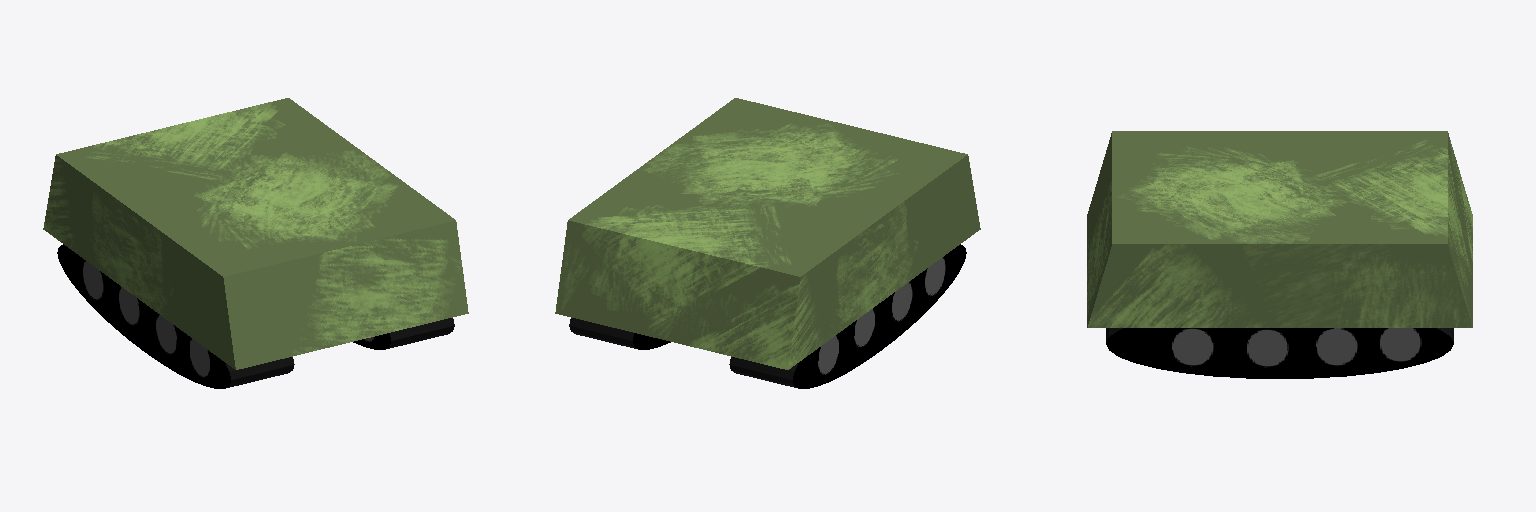
3 views of the same model, side by side, from view 1: azimuth 30°, elevation 25°; view 2: azimuth 150°, elevation 25°; view 3: azimuth 270°, elevation 25° (orthographic).
Visible parts, largest first — view 1: Vehicle; view 2: Vehicle; view 3: Vehicle.
Boxes of the visible parts, x1,y1,x2,y2 form: Vehicle: [43, 98, 468, 388]; Vehicle: [555, 98, 980, 388]; Vehicle: [1087, 131, 1472, 378].
Size of the model in its own units: 2.04 by 1.15 by 2.92.
1 materials, 1 textured.